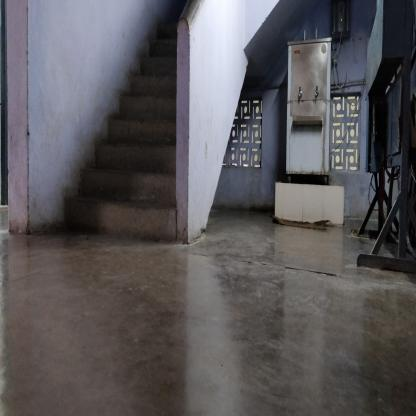stairs: (108, 117, 176, 251)
